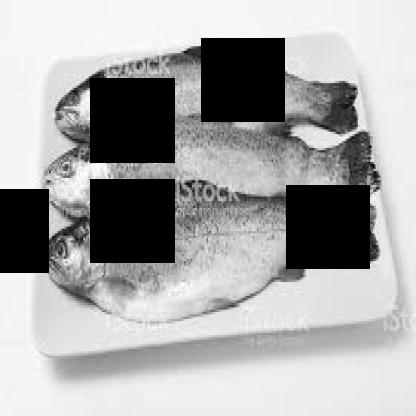fish: (39, 185, 381, 319), (39, 112, 381, 222), (51, 43, 361, 149)
